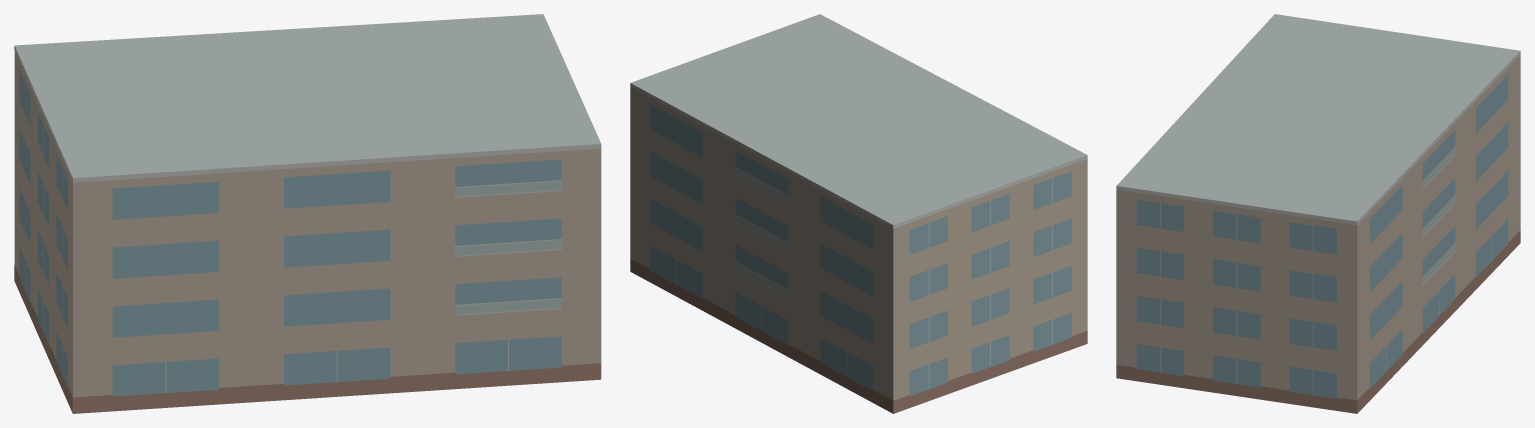
The model's file is survey-upis-32874202.glb.
3 views of the same model, side by side, from view 1: azimuth 30°, elevation 25°; view 2: azimuth 150°, elevation 25°; view 3: azimuth 270°, elevation 25° (orthographic). The views are drawn at different scales.
Parts seen in each view (by area): view 1: survey-upis-32874202.tmp; view 2: survey-upis-32874202.tmp; view 3: survey-upis-32874202.tmp.
Boxes of the visible parts, x1,y1,x2,y2 form: survey-upis-32874202.tmp: [14, 14, 601, 413]; survey-upis-32874202.tmp: [630, 14, 1087, 413]; survey-upis-32874202.tmp: [1116, 14, 1520, 413].
Size of the model in its own units: 28.69 by 12.4 by 23.61.
